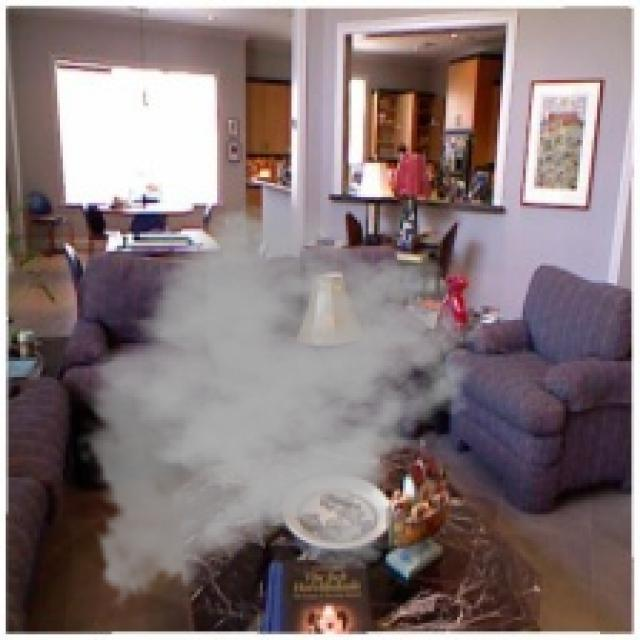Smoke: (74, 202, 486, 614)
